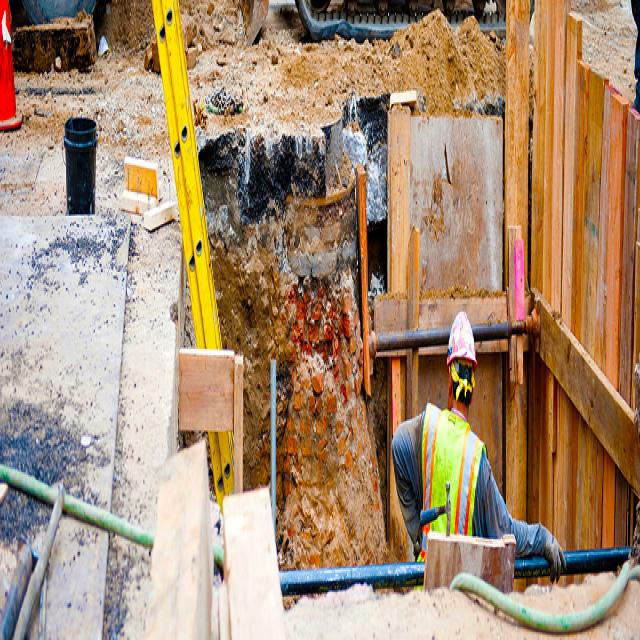helmet: (447, 306, 478, 410)
vest: (415, 395, 489, 569)
